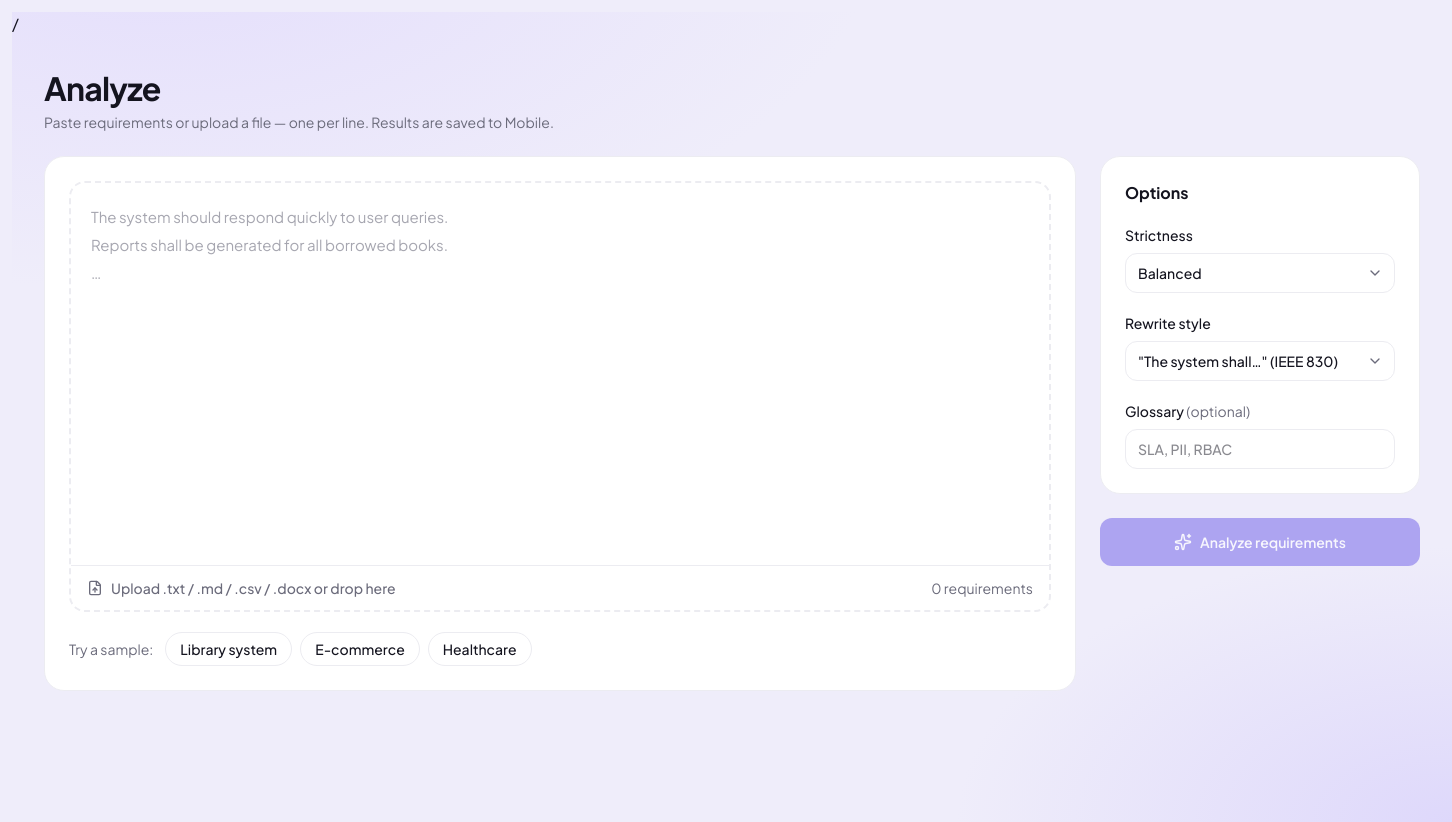
Test: Analyze page › submits into the selected project and navigates to the results
Click the button "Library system": (229,649) [165,632,292,666]
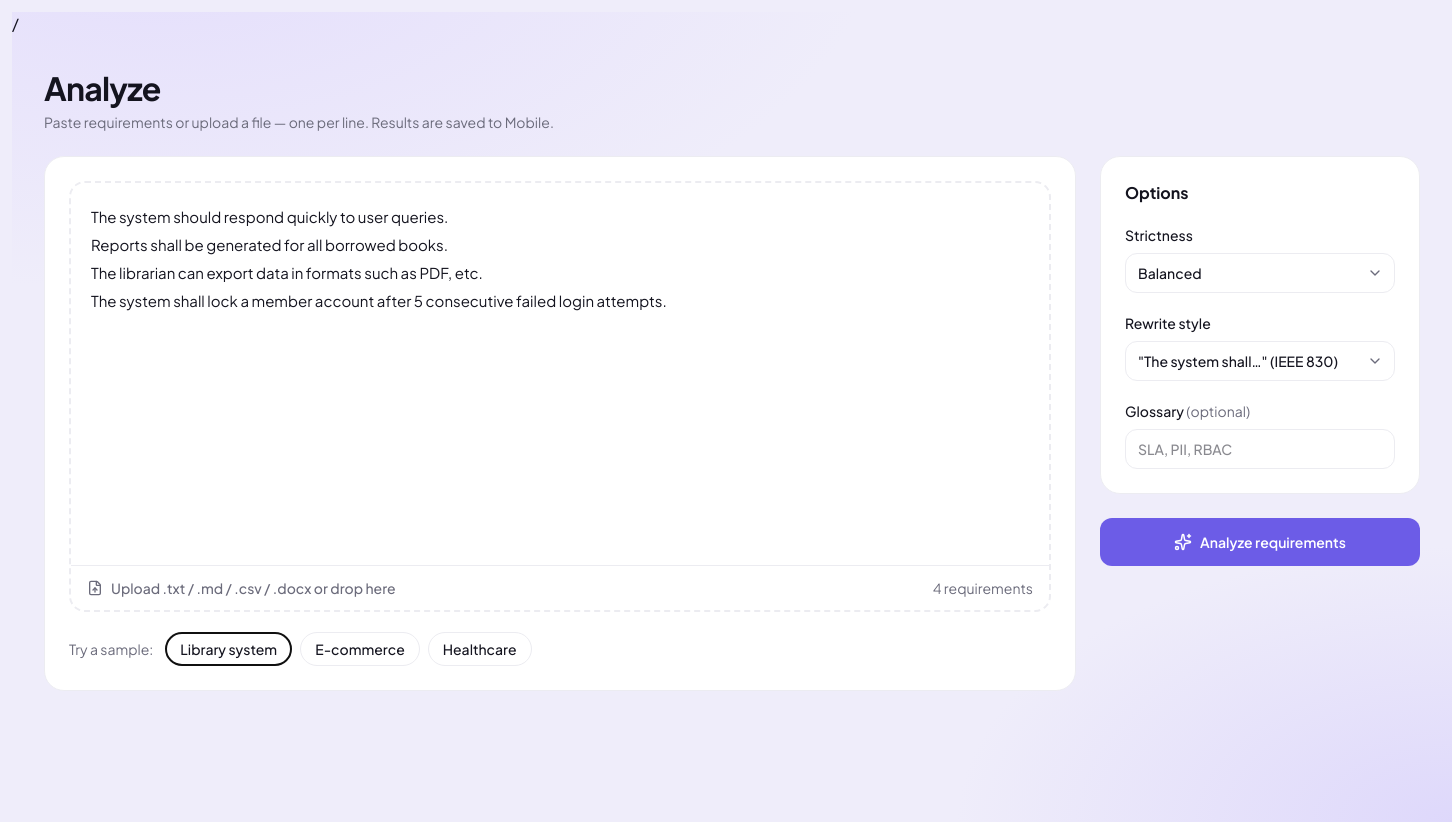
Click the button "Analyze requirements": (1260,542) [1100,518,1420,566]
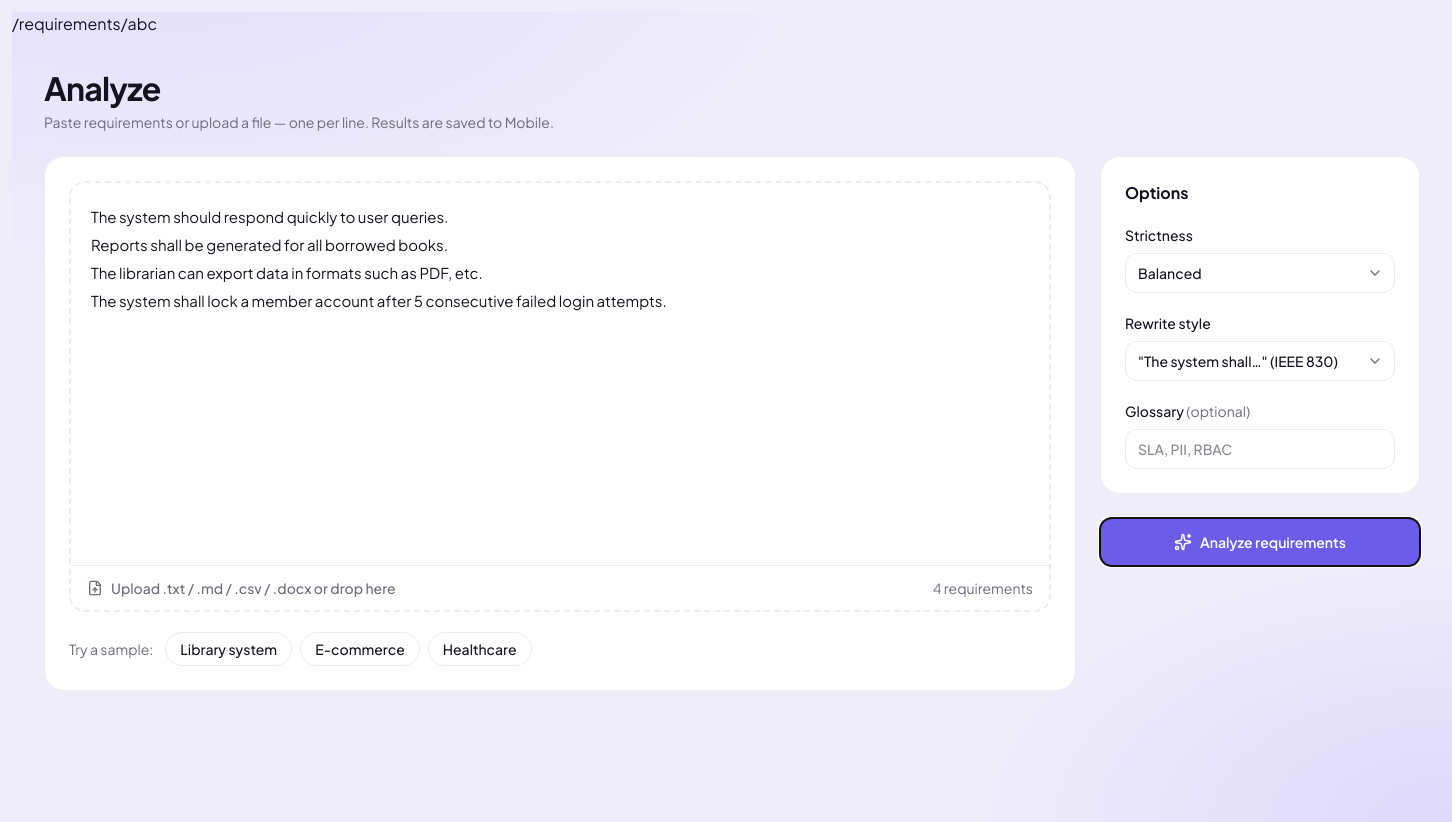
Result: the text with test id "loc" reads "/requirements/abc" at [12,13,157,34]
